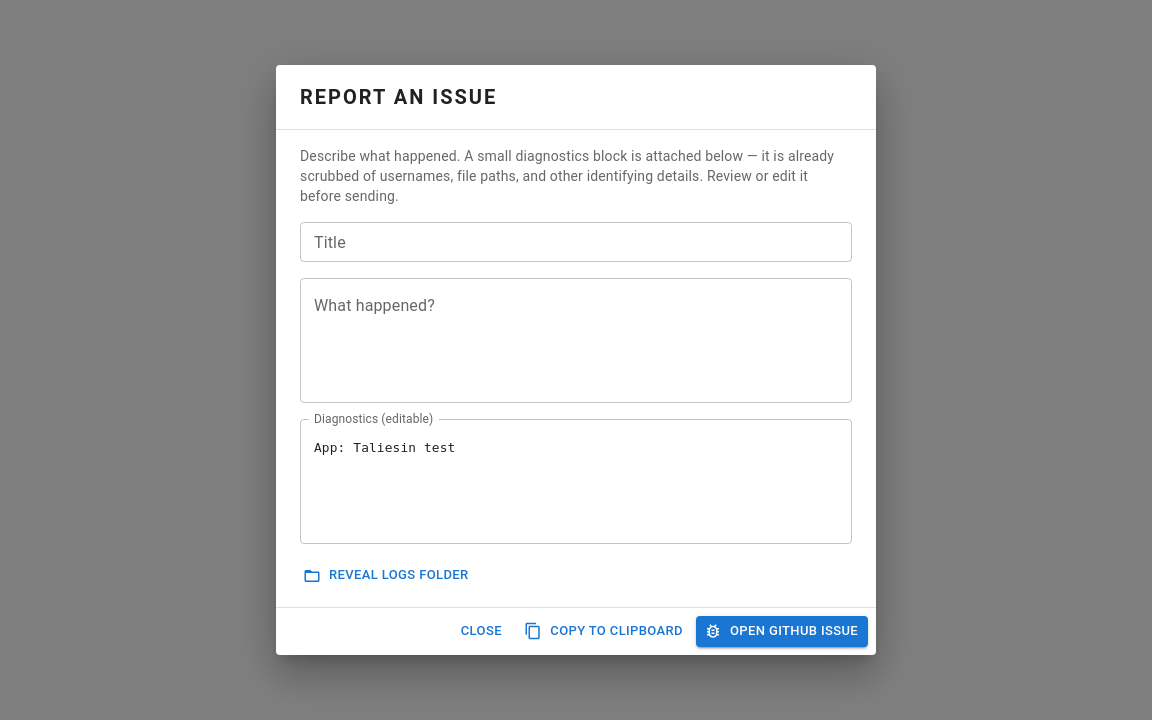
Test: ReportIssueDialog — opening the issue › says the report is on the clipboard when the copy worked
This screenshot has width=1152, height=720.
Click the button "Open GitHub issue" at (782, 631), box [696,616,868,647]
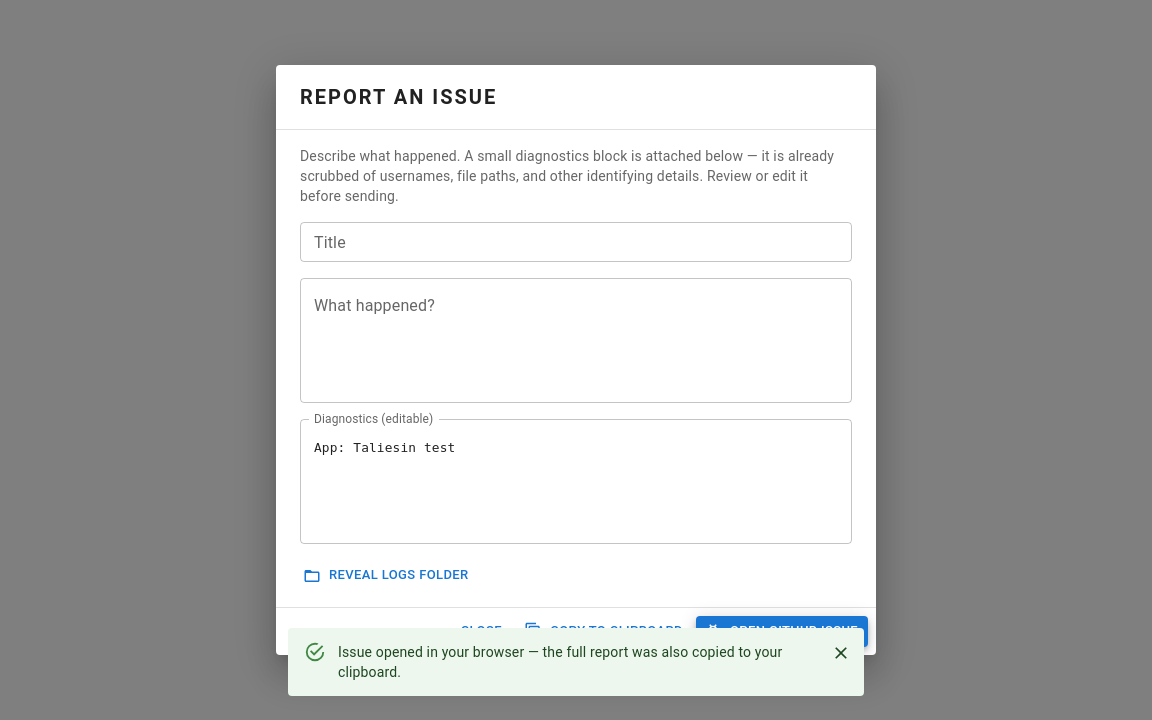
Expected: the text "also copied to your clipboard" is shown, [338,644,782,680]
